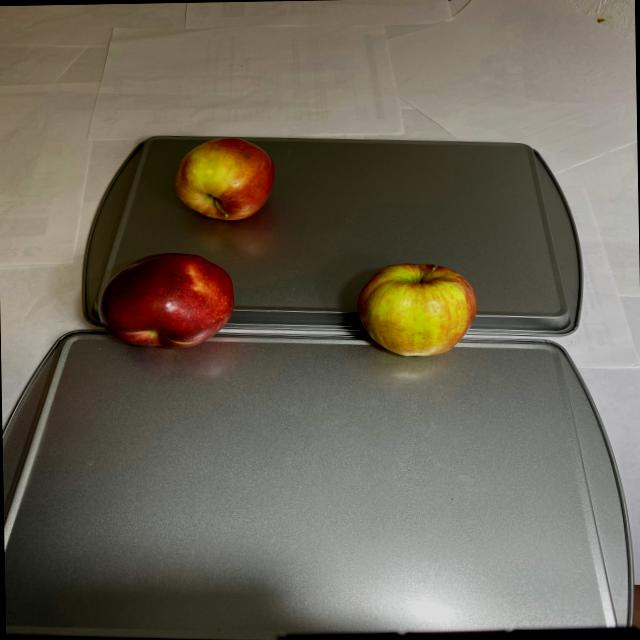apple: (90, 137, 284, 351), (356, 258, 481, 366)
